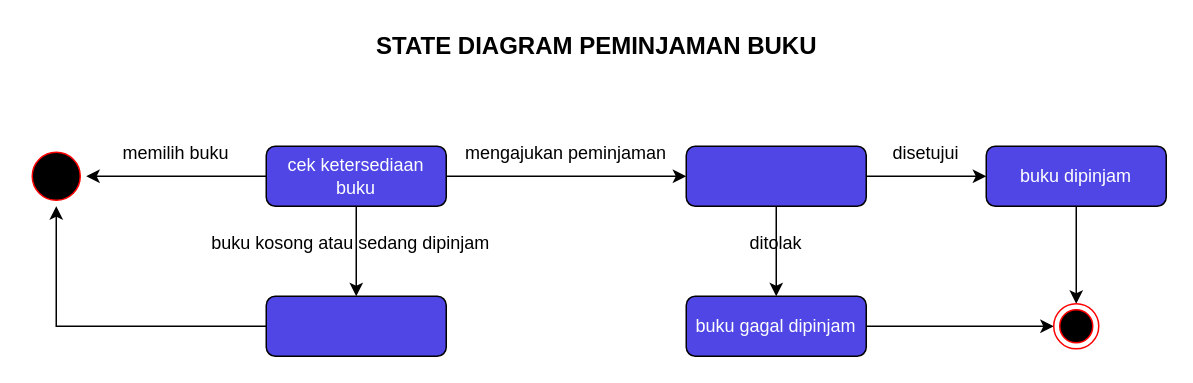
The diagram is 1193 pixels wide and 383 high, and some of its shapes have lost their labels. Here are the shapes that lost their labels. From the top down, the centre of each, then its label:
At [775,175]: "pemrosesan".
At [355,325]: "buku tidak tersedia".
